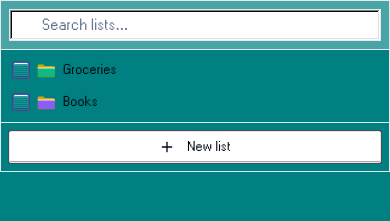
Scenario: ListPicker › toggles multi-select when clicking the row label, not only the checkbox
The image size is (390, 221).
Step 1. Click the text "Groceries" → click(90, 70), box x1=63 y1=60 x2=117 y2=80
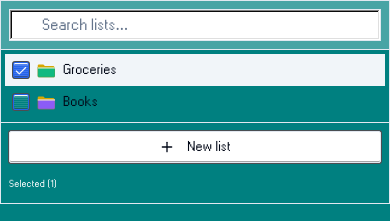
Now the text "Selected (1)" is shown, box x1=9 y1=179 x2=57 y2=189
Now the checkbox named "Add to Groceries" is checked, box x1=13 y1=62 x2=29 y2=78
